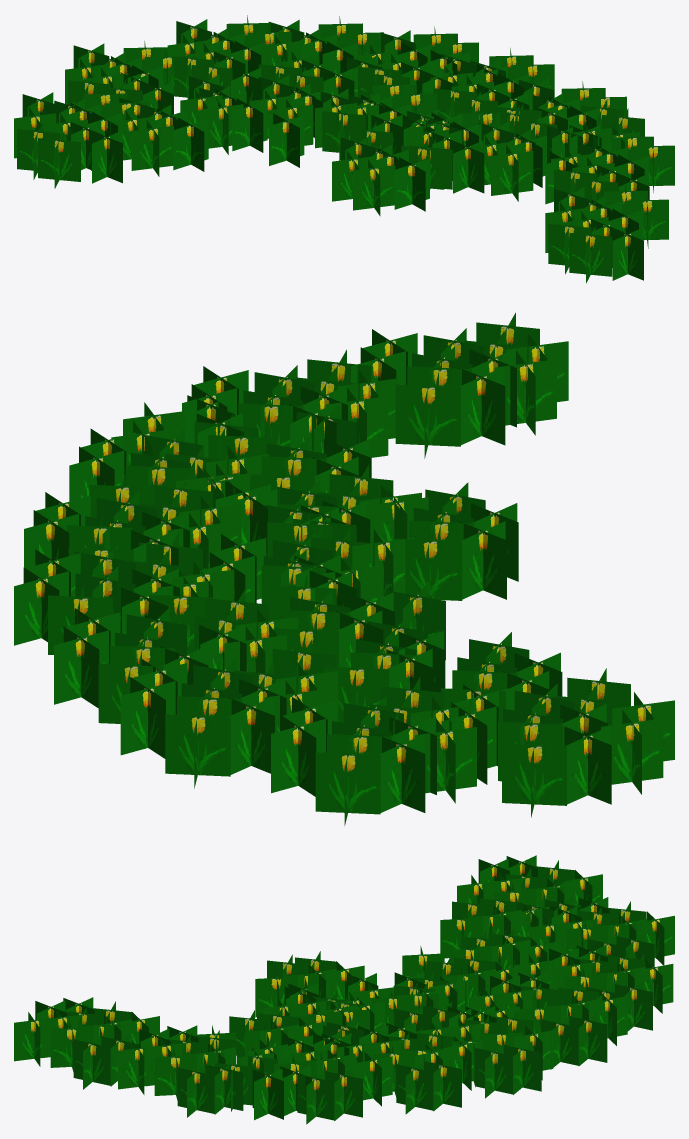
The model's file is HTOWN01_TULIPYELLOW01.fbx.
3 views of the same model, one above another, from view 1: azimuth 30°, elevation 25°; view 2: azimuth 150°, elevation 25°; view 3: azimuth 270°, elevation 25° (orthographic). The views are drawn at different scales.
Parts seen in each view (by area): view 1: HTOWN01_TULIPYELLOW01; view 2: HTOWN01_TULIPYELLOW01; view 3: HTOWN01_TULIPYELLOW01.
Part boxes in pixels (x1,y1,x2,y2): HTOWN01_TULIPYELLOW01: (14,15,674,283); HTOWN01_TULIPYELLOW01: (14,312,674,825); HTOWN01_TULIPYELLOW01: (14,855,674,1124).
Bounding box in the file's own units: 64135 × 5000 × 77619.
1 material, 1 textured.
